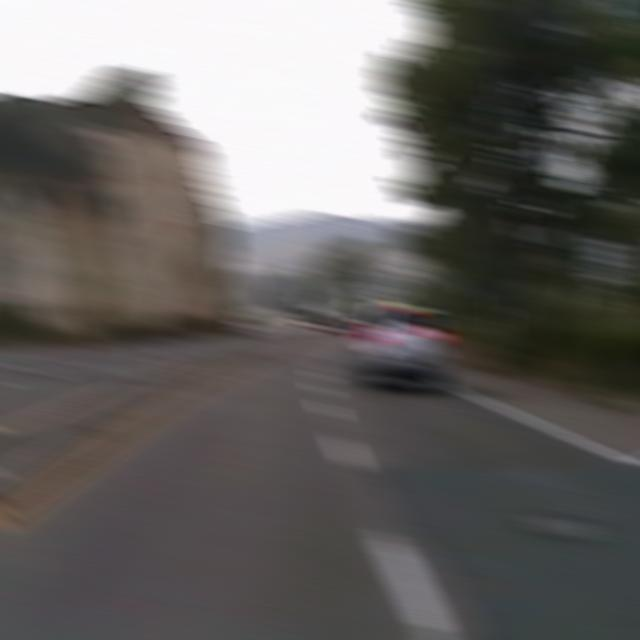speedLimit50: (583, 238, 624, 282)
